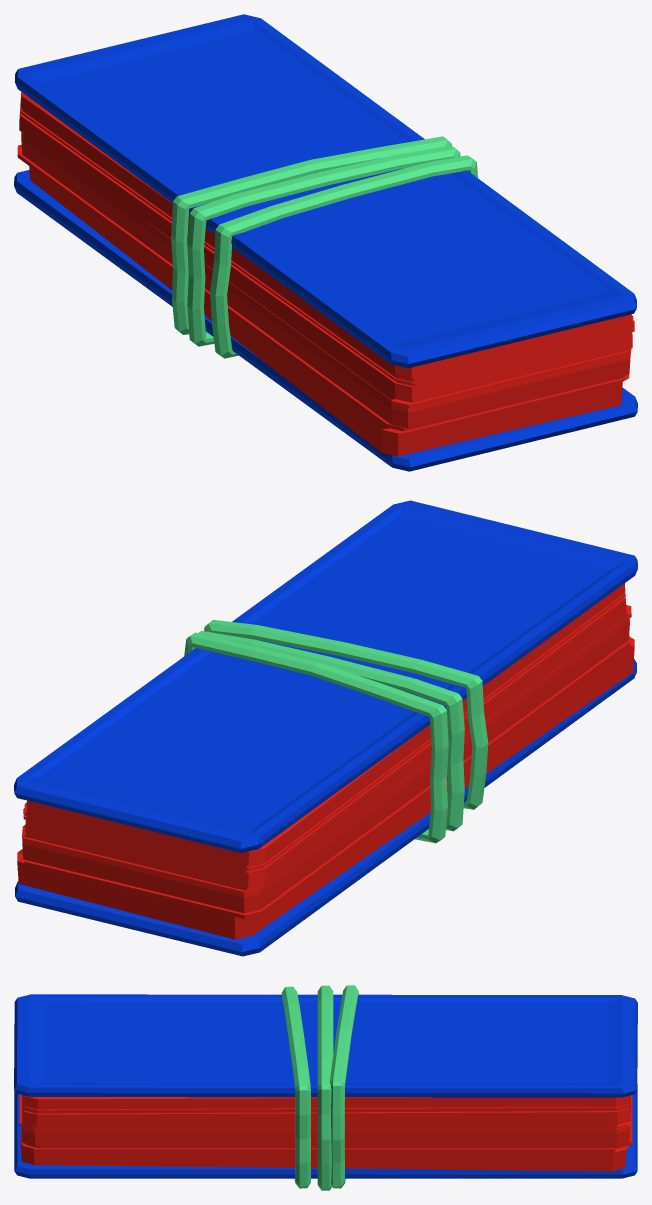
Rendered from Book_1_JBischer.fbx.
3 renders of one model, top to bottom at view 1: azimuth 30°, elevation 25°; view 2: azimuth 150°, elevation 25°; view 3: azimuth 270°, elevation 25°, orthographic. The views are drawn at different scales.
Parts seen in each view (by area): view 1: Cube.002; view 2: Cube.002; view 3: Cube.002.
Part boxes in pixels (bbox=[...]): Cube.002: bbox=[14, 14, 637, 471]; Cube.002: bbox=[14, 500, 637, 956]; Cube.002: bbox=[14, 985, 637, 1190].
Bounding box in the file's own units: 226 × 118 × 565.
